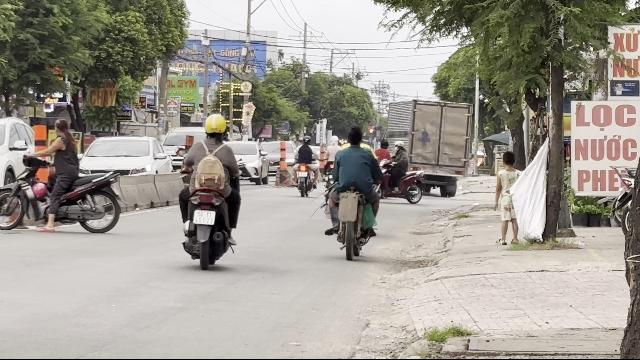helmet: (203, 114, 227, 138)
licenseplate: (193, 210, 214, 224)
motorcyclist: (2, 118, 130, 230), (175, 112, 242, 268), (321, 125, 384, 259)
nohelmet: (345, 126, 363, 144), (54, 119, 70, 139)
